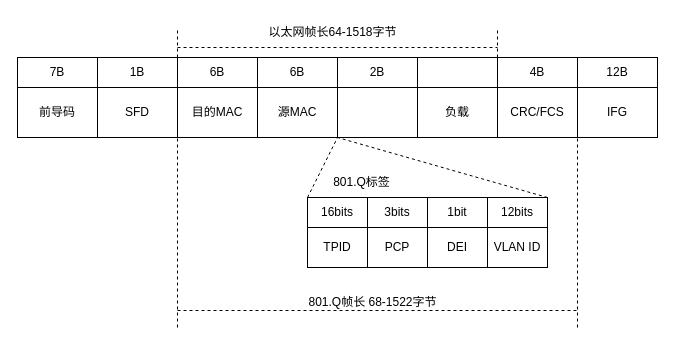
Image size: 675x346. Some labels were removed from this diagram. The centre of each missing label's shape, as x and y in pixels:
"14-1500B" goes at [457,72].
"类型/长度" goes at [377,112].
